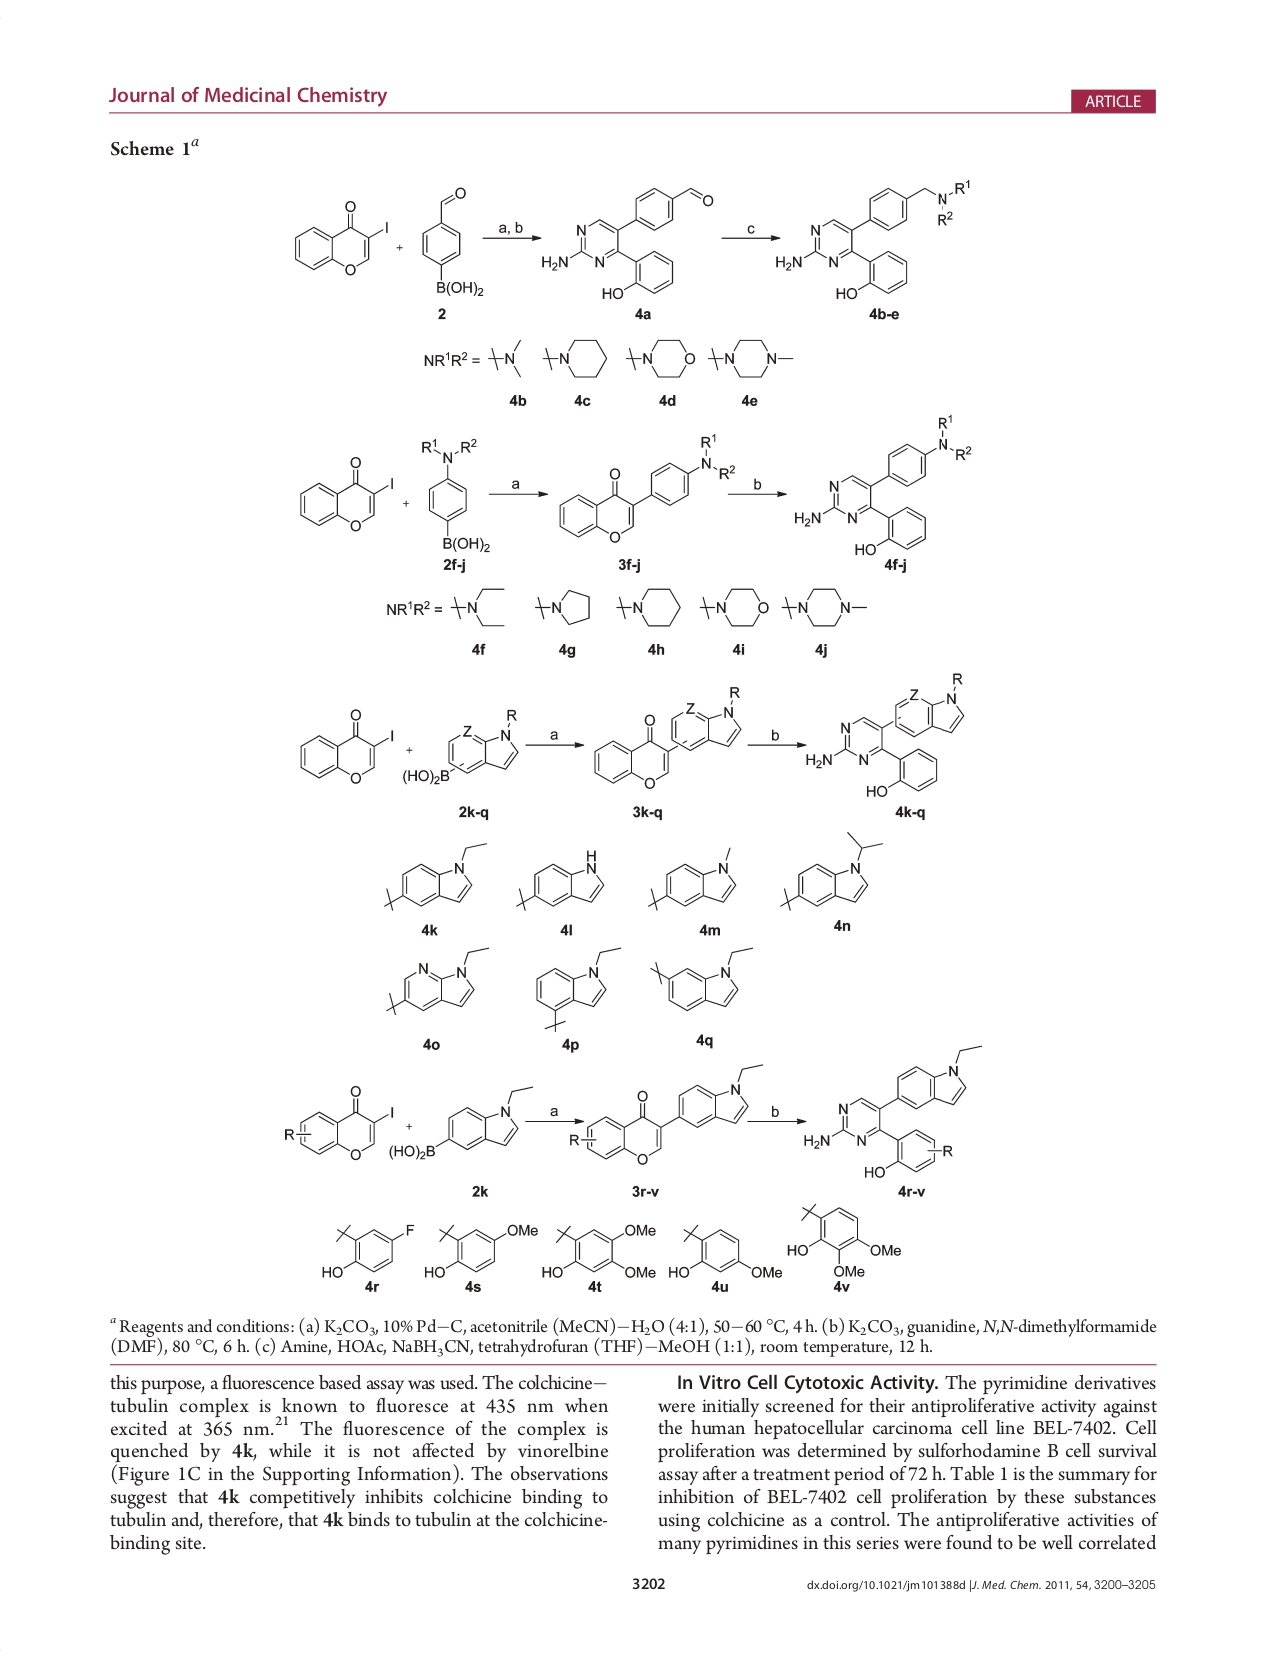exist_molecular: (790, 410, 973, 556), (774, 174, 973, 301), (799, 1043, 981, 1178), (802, 668, 969, 799), (536, 182, 715, 301), (553, 430, 737, 545), (567, 1063, 765, 1165), (592, 684, 746, 790), (384, 1084, 537, 1162), (765, 822, 891, 912), (782, 1197, 903, 1279), (400, 707, 523, 789), (414, 434, 496, 552), (372, 835, 491, 914), (279, 1083, 394, 1164), (531, 938, 622, 1037), (416, 184, 491, 299), (295, 704, 396, 787), (379, 943, 492, 1017), (297, 449, 395, 533), (289, 198, 390, 278), (540, 1217, 657, 1282), (649, 944, 755, 1015), (419, 1217, 540, 1277), (669, 1218, 782, 1279), (511, 843, 605, 912), (641, 844, 735, 912), (316, 1222, 418, 1279), (706, 335, 797, 384), (777, 585, 868, 630), (537, 334, 610, 384), (696, 582, 769, 633), (622, 335, 697, 382), (445, 582, 511, 636), (612, 585, 682, 630), (532, 586, 593, 630), (484, 324, 525, 382)
